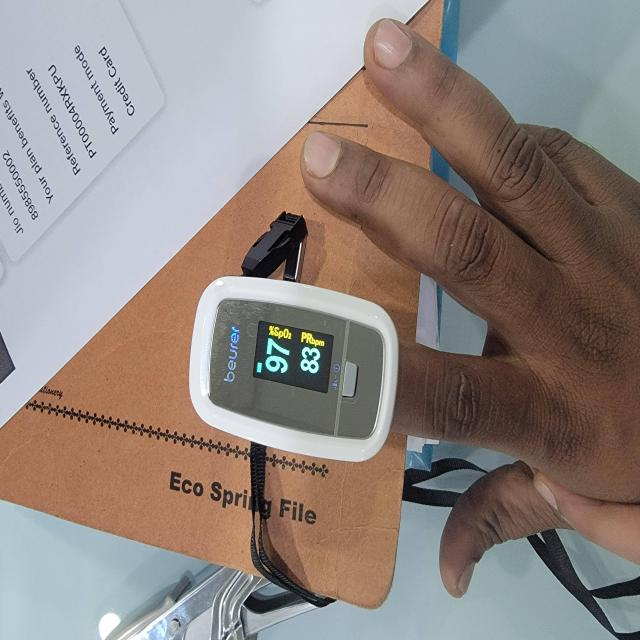spo2: (189, 278, 399, 464)
